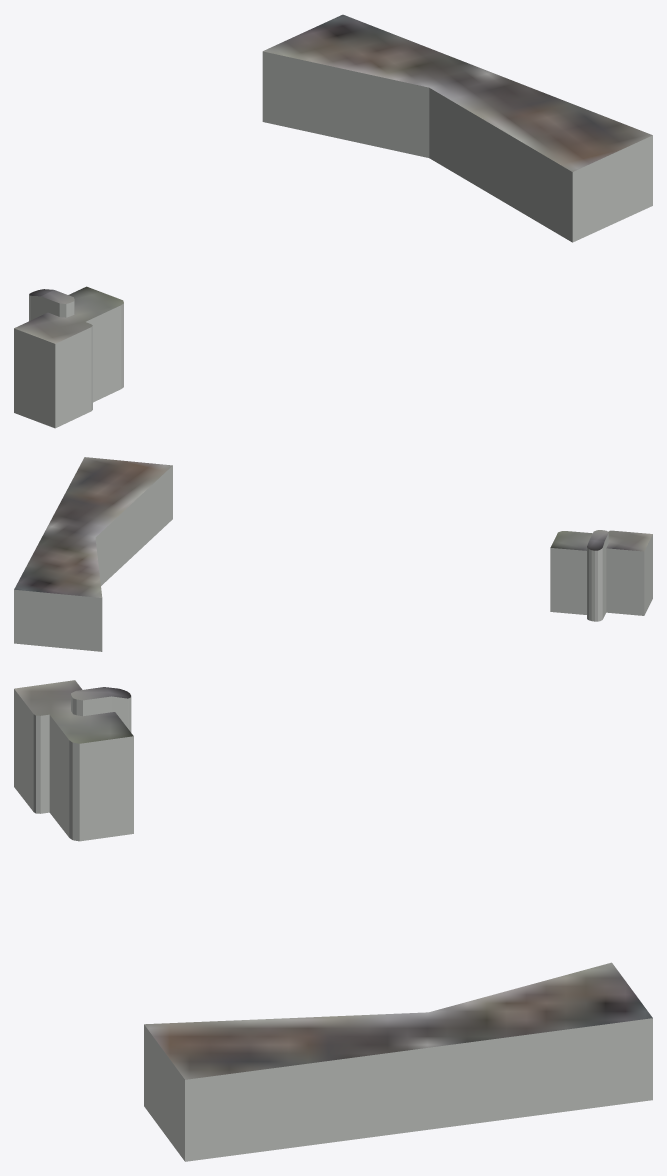
File: LSGS_1_1.glb
The picture shows the model from 3 angles, top to bottom: view 1: azimuth 30°, elevation 25°; view 2: azimuth 150°, elevation 25°; view 3: azimuth 270°, elevation 25°; orthographic projection. The views are drawn at different scales.
Visible parts, largest first — view 1: building_8caa4ffc9cbd7492, building_e81ccfa8656cdf54; view 2: building_8caa4ffc9cbd7492, building_e81ccfa8656cdf54; view 3: building_8caa4ffc9cbd7492, building_e81ccfa8656cdf54.
Boxes of the visible parts, <box> form: building_8caa4ffc9cbd7492: <box>14,51,652,428</box>; building_e81ccfa8656cdf54: <box>14,14,652,343</box>; building_8caa4ffc9cbd7492: <box>14,465,652,651</box>; building_e81ccfa8656cdf54: <box>14,457,652,597</box>; building_8caa4ffc9cbd7492: <box>14,689,652,1161</box>; building_e81ccfa8656cdf54: <box>14,680,652,1079</box>.
Size of the model in its own units: 145 by 19.73 by 100.
2 materials, 1 textured.
